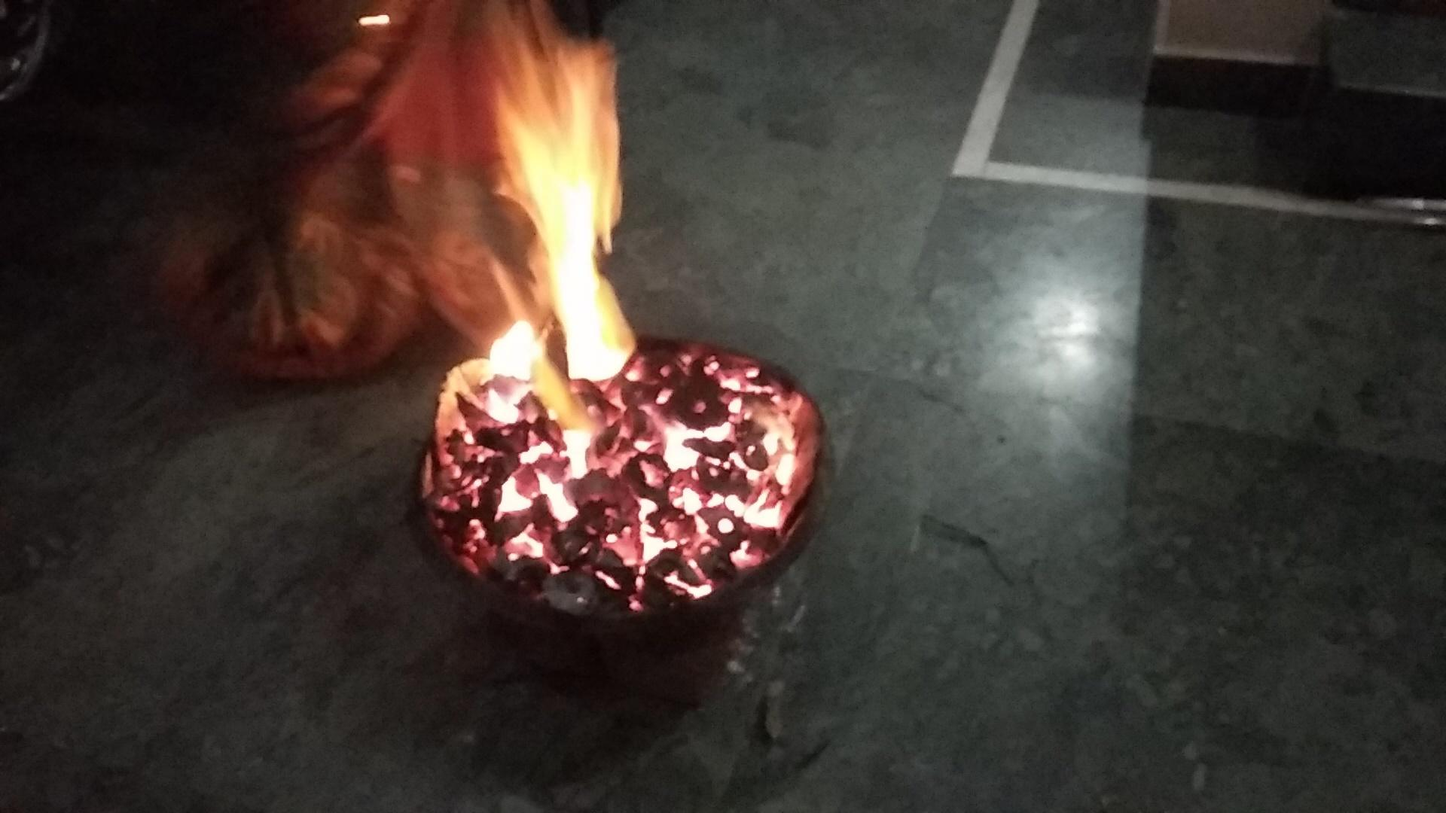fire: (263, 0, 637, 406), (641, 331, 819, 610), (413, 404, 638, 615)
